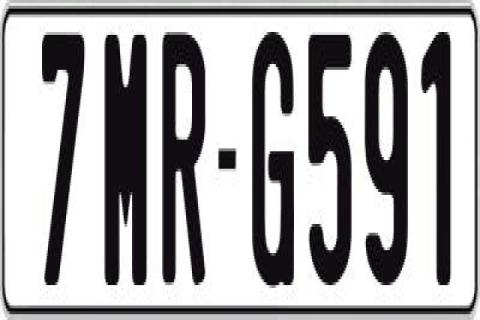0: (362, 32, 410, 296), (306, 32, 354, 291), (42, 32, 90, 282), (422, 32, 456, 300)
G: (251, 23, 297, 280)
M: (102, 27, 148, 280)
R: (162, 24, 206, 294)
